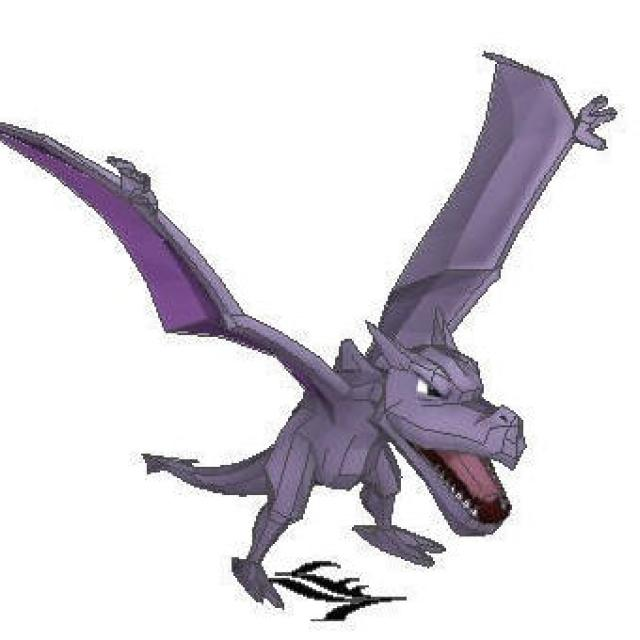Aerodactyl: (128, 257, 538, 608)
